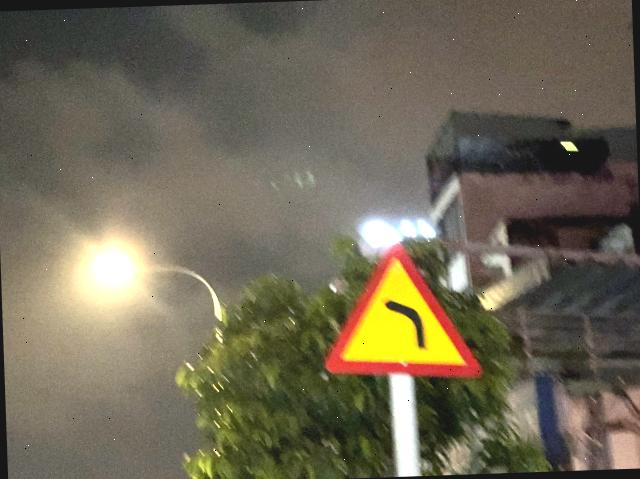cho-ngoat-nguy-hiem-ben-trai: (318, 238, 482, 384)
